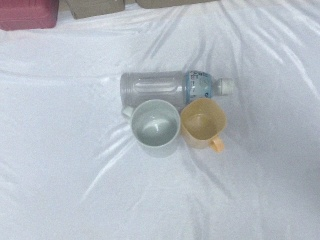bottle: (120, 70, 234, 108)
box: (58, 1, 125, 19)
cup: (130, 99, 181, 157), (180, 97, 228, 154)
